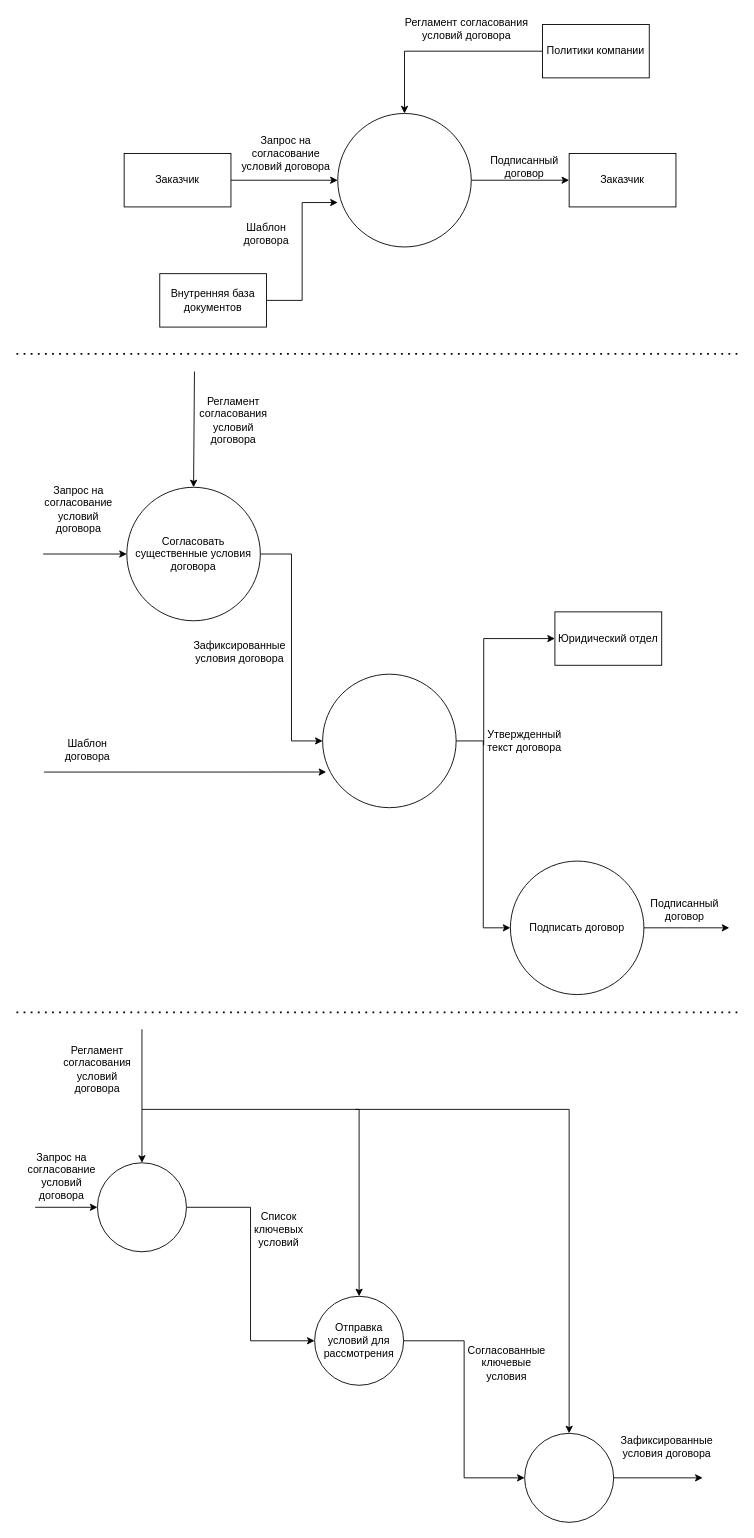
This 754x1538 diagram has some shape labels left out. The box of each missing label's shape, as (x1, y1, x2, y2) in pixels:
Заключить договор оказания консультационных услуг: (337, 113, 471, 247)
Определение ключевых условий договора: (97, 1162, 186, 1252)
Согласовать текст договора: (322, 673, 456, 808)
Фиксация условий договора: (524, 1432, 614, 1522)
